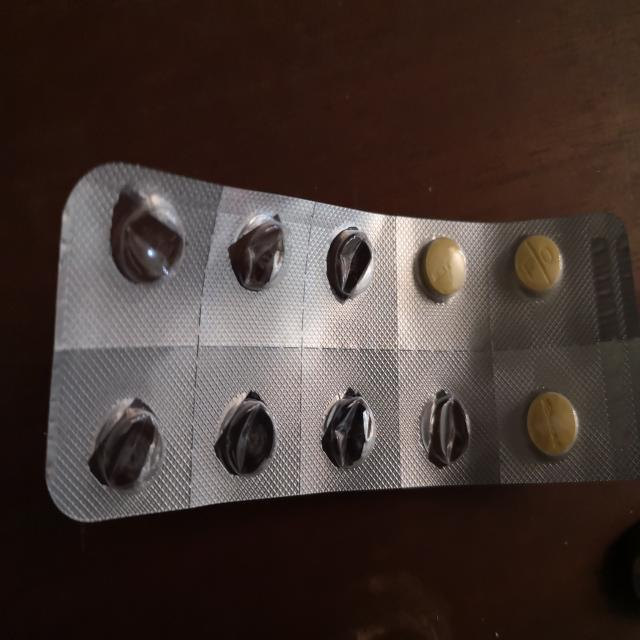Empty: (84, 383, 168, 498), (109, 176, 187, 294), (206, 378, 280, 481), (224, 197, 290, 297), (412, 379, 481, 470), (311, 386, 379, 471), (322, 216, 380, 309)
Pill: (521, 382, 583, 466), (501, 226, 564, 300), (409, 227, 469, 303)
